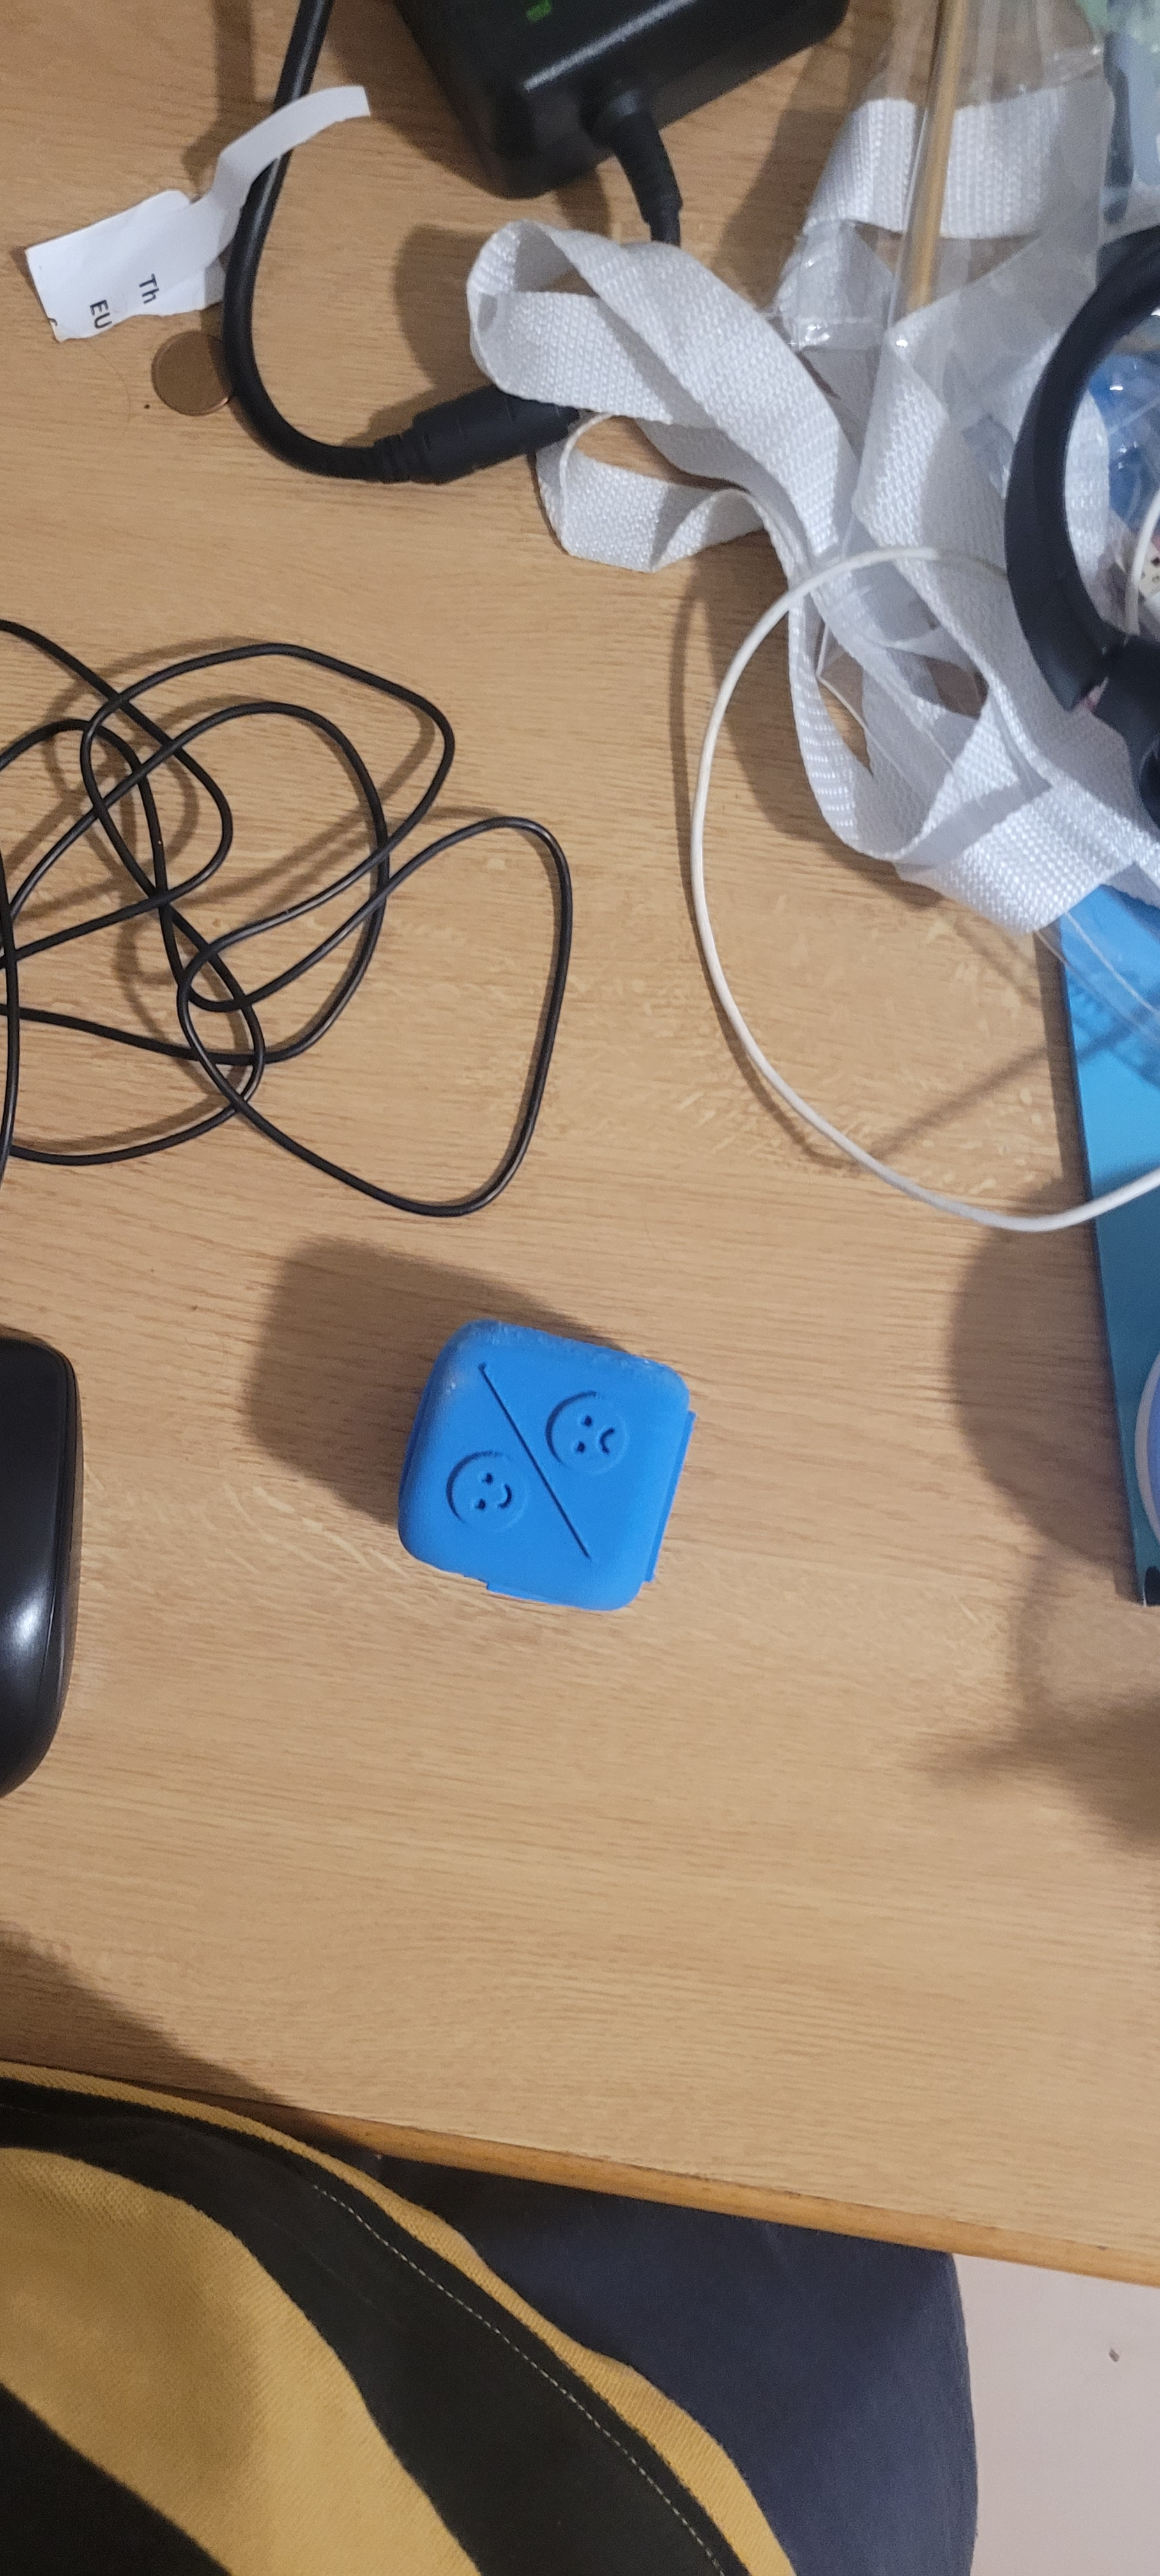Like/Dislike: (426, 1344, 679, 1607)
